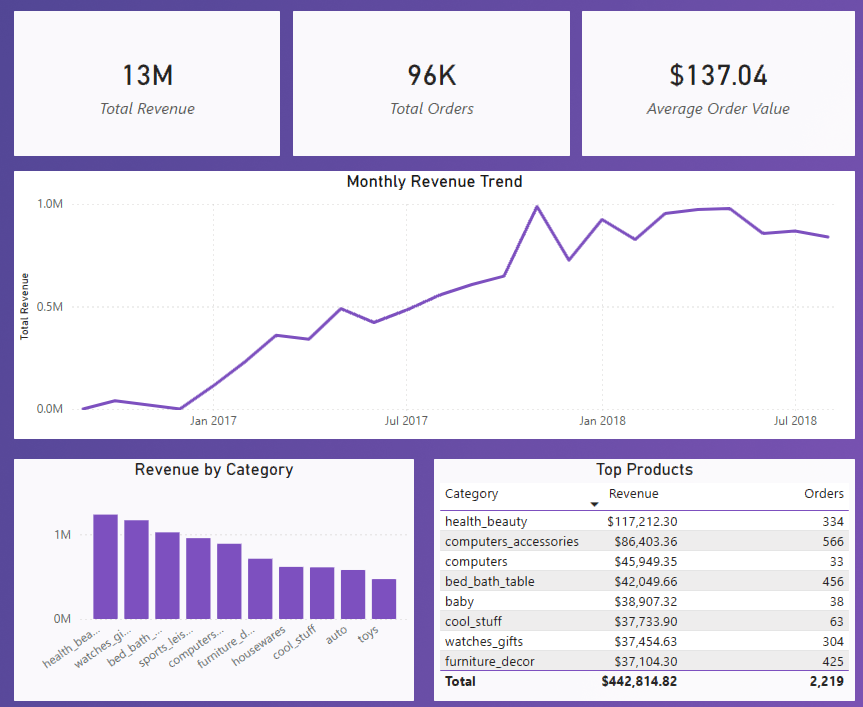

The page's visual inventory and layout, read from the dashboard file:
{"tool":"powerbi","page":{"name":"Executive Overview","canvas":[1280,720],"ordinal":0},"visuals":[{"type":"card","fields":{"Values":["monthly_revenue.Total Revenue"]},"box":[219.5,24,266.3,144.7],"z":0},{"type":"card","fields":{"Values":["monthly_revenue.Total Orders"]},"box":[499.2,24,276.7,144.7],"z":1000},{"type":"card","fields":{"Values":["monthly_revenue.Average Order Value"]},"box":[787.9,24,273,144.7],"z":2000},{"type":"lineChart","title":"Monthly Revenue Trend","fields":{"Y":["monthly_revenue.Total Revenue"],"Category":["monthly_revenue.order_month"]},"box":[219.5,184.3,841.4,267.8],"z":3000},{"type":"clusteredColumnChart","title":"Revenue by Category","fields":{"Category":["category_revenue.category"],"Y":["Sum(category_revenue.total_revenue)"]},"box":[219.5,471.5,400.6,242.4],"z":4000},{"type":"tableEx","title":"Top Products","fields":{"Values":["top_products.category","top_products.• Total Revenue","top_products.• Total Orders"]},"box":[640.2,471.5,420.7,242.4],"z":5000}]}

Visuals, with their boxes on the page's 1280x720 design canvas (x1, y1, x2, y2). These are canvas units, not pixel positions in the 863x707 screenshot, which may show the page scaled, cropped or inside an application window:
card - monthly_revenue.Total Revenue: 220,24,486,169
card - monthly_revenue.Total Orders: 499,24,776,169
card - monthly_revenue.Average Order Value: 788,24,1061,169
"Monthly Revenue Trend" lineChart: 220,184,1061,452
"Revenue by Category" clusteredColumnChart: 220,472,620,714
"Top Products" tableEx: 640,472,1061,714
